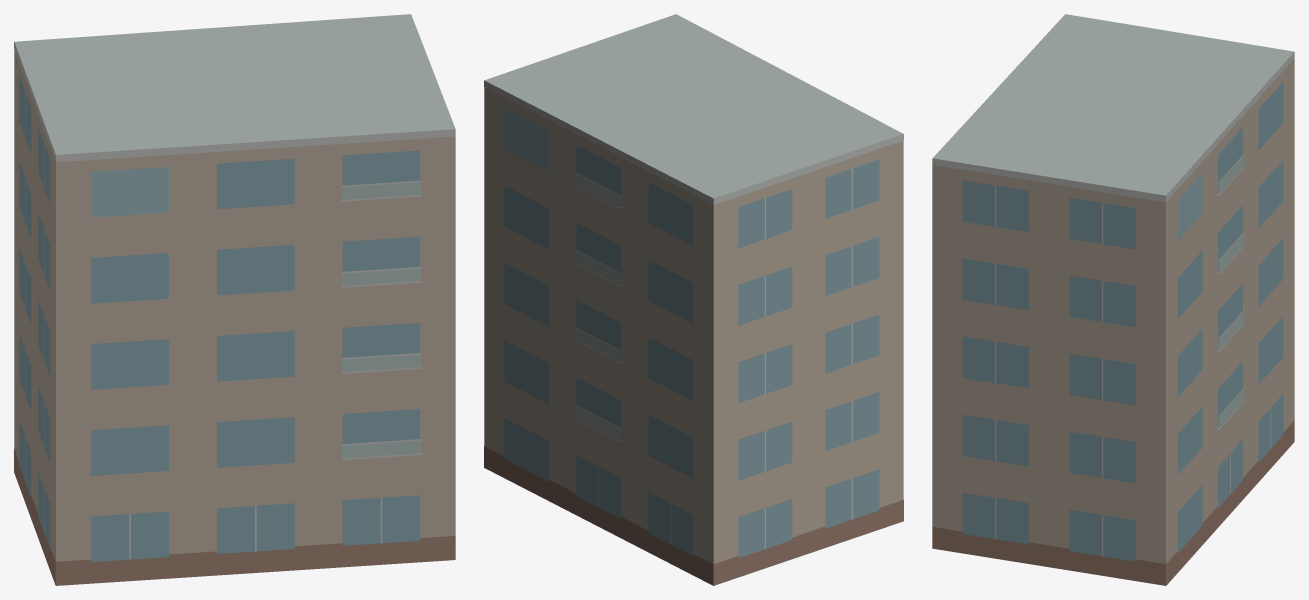
Rendered from survey-upis-32878825.glb.
3 views of the same model, side by side, from view 1: azimuth 30°, elevation 25°; view 2: azimuth 150°, elevation 25°; view 3: azimuth 270°, elevation 25° (orthographic). The views are drawn at different scales.
Parts seen in each view (by area): view 1: survey-upis-32878825.tmp; view 2: survey-upis-32878825.tmp; view 3: survey-upis-32878825.tmp.
Boxes of the visible parts, x1=… form: survey-upis-32878825.tmp: x1=14, y1=14, x2=455, y2=585; survey-upis-32878825.tmp: x1=484, y1=14, x2=903, y2=585; survey-upis-32878825.tmp: x1=932, y1=14, x2=1294, y2=585.
Size of the model in its own units: 14.38 by 14.4 by 12.12.
